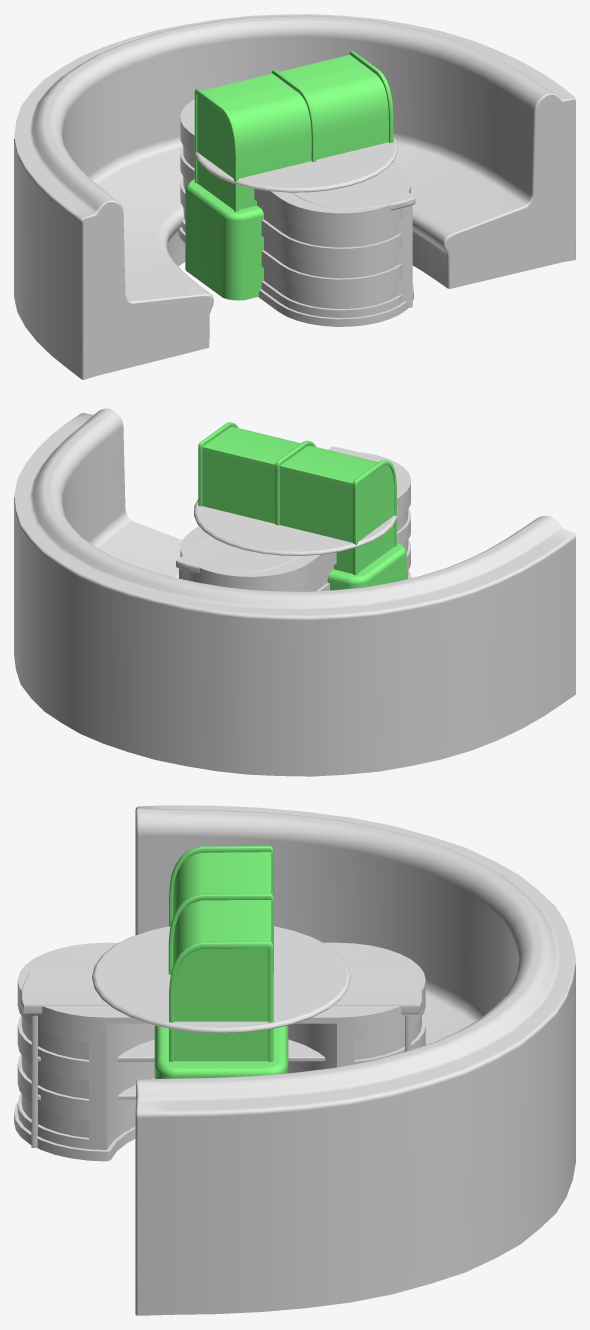
The model's file is RestaurantBundle2.fbx.
The picture shows the model from 3 angles, top to bottom: view 1: azimuth 30°, elevation 25°; view 2: azimuth 150°, elevation 25°; view 3: azimuth 270°, elevation 25°; orthographic projection. The views are drawn at different scales.
Visible parts, largest first — view 1: Circle001, Buffet, Desk, RoundTable, Bar; view 2: Circle001, Buffet, Desk, RoundTable, Bar; view 3: Circle001, Desk, Buffet, RoundTable, Bar.
Boxes of the visible parts, <box> form: Circle001: <box>14,14,575,379</box>; Buffet: <box>185,51,393,300</box>; Desk: <box>178,99,413,326</box>; RoundTable: <box>194,136,397,192</box>; Bar: <box>292,172,415,308</box>; Circle001: <box>14,408,575,776</box>; Buffet: <box>198,422,406,590</box>; Desk: <box>180,452,411,591</box>; RoundTable: <box>194,499,397,555</box>; Bar: <box>176,446,396,580</box>; Circle001: <box>135,805,575,1315</box>; Desk: <box>14,942,425,1161</box>; Buffet: <box>154,846,288,1078</box>; RoundTable: <box>92,926,350,1033</box>; Bar: <box>20,951,422,1147</box>.
Bounding box in the file's own units: 5.41 × 2.21 × 4.21.
